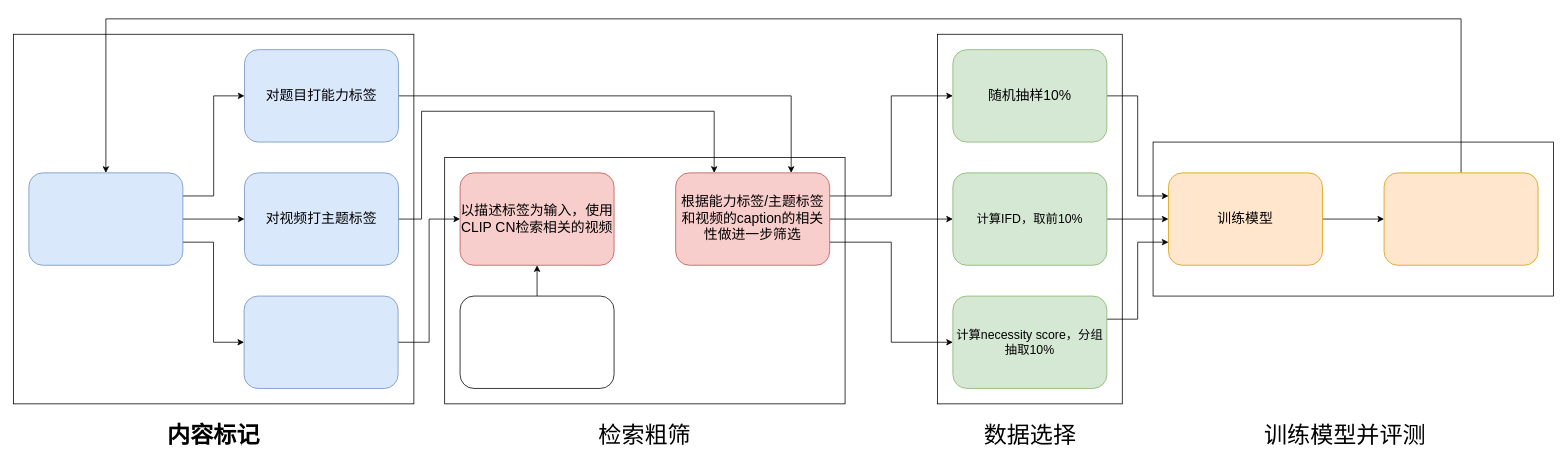
Image size: 1567x464. Some labels were removed from this diagram. Here are the shapes that lost their labels. From the top down, the centre of each, then its label:
At (x=105, y=218): "使用 Qwen2.5-VL-7B对评测集打标签".
At (x=1460, y=218): "指标计算".
At (x=320, y=341): "对视频打 描述标签".
At (x=536, y=341): "AIData数据源 （纯视频，视频文本对）".
